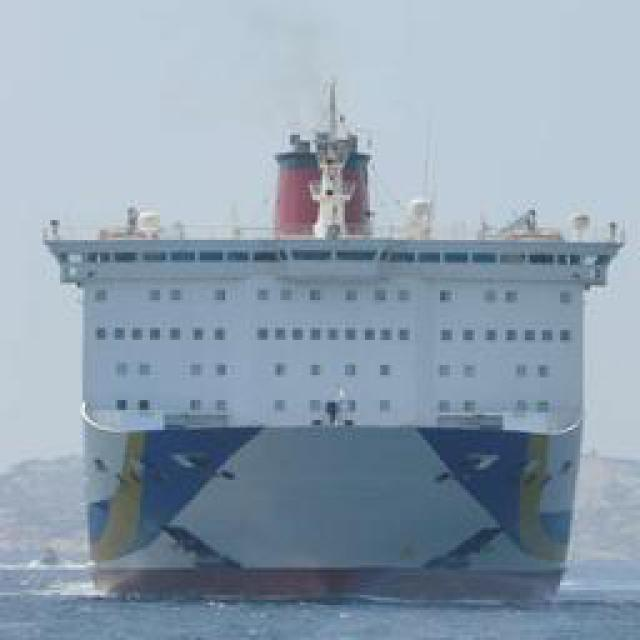Ship: (62, 75, 600, 588)
